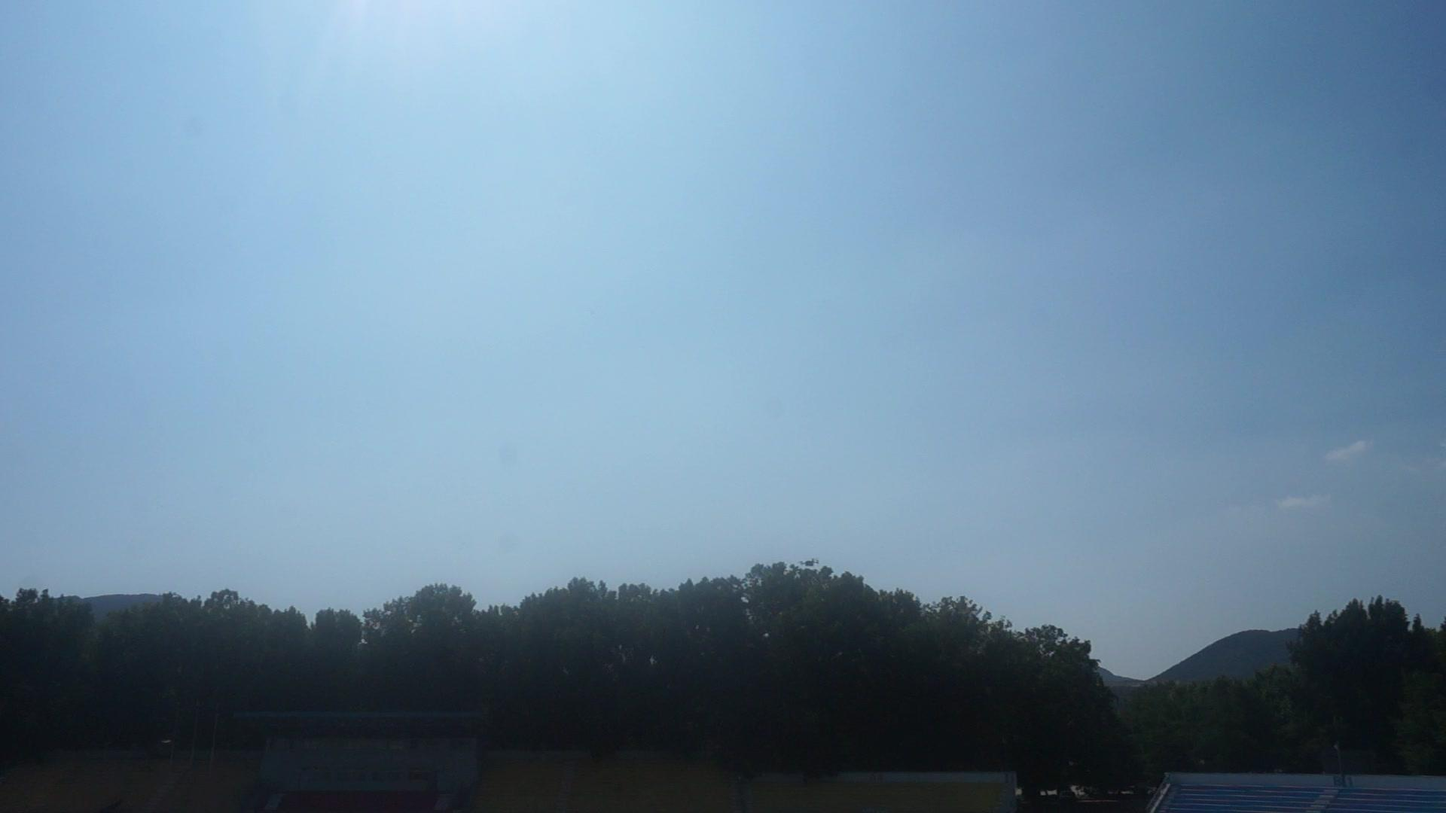UAV: (800, 559, 820, 568)
